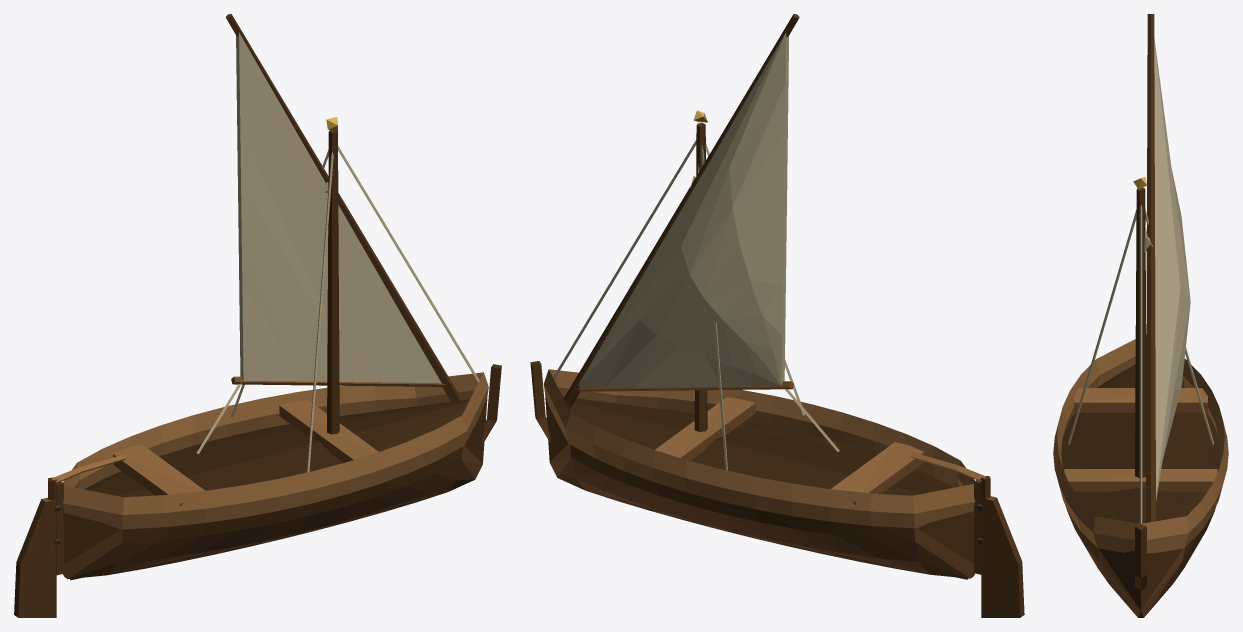
Rendered from mt_sailboat_wood.glb.
3 renders of one model, left to right at view 1: azimuth 30°, elevation 25°; view 2: azimuth 150°, elevation 25°; view 3: azimuth 270°, elevation 25°, orthographic. The views are drawn at different scales.
Visible parts, largest first — view 1: base, sail_m, rudder_m; view 2: base, sail_m, rudder_m; view 3: base, sail_m.
Boxes of the visible parts, bbox=[...] form: base: bbox=[56, 117, 501, 580]; sail_m: bbox=[196, 14, 460, 454]; rudder_m: bbox=[14, 454, 126, 617]; base: bbox=[530, 110, 981, 579]; sail_m: bbox=[563, 14, 839, 451]; rudder_m: bbox=[911, 452, 1024, 617]; base: bbox=[1053, 176, 1228, 617]; sail_m: bbox=[1144, 14, 1190, 522].
Bounding box in the file's own units: 1.07 × 1.17 × 0.352.
